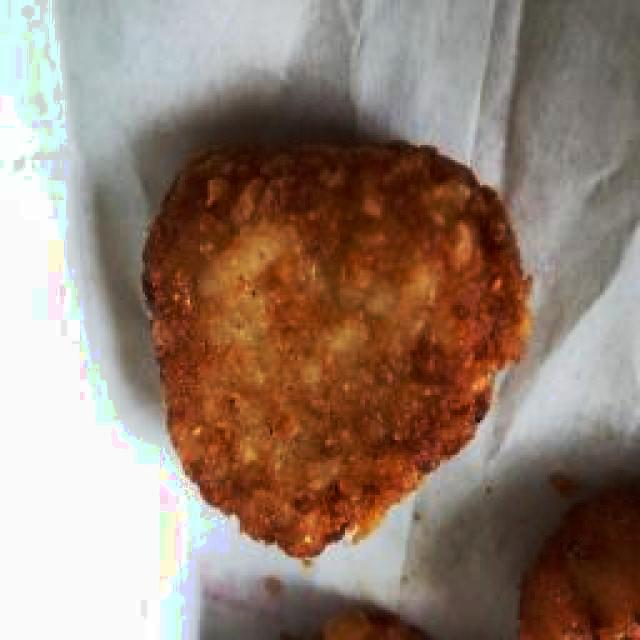Hashbrown: (144, 144, 527, 559)
